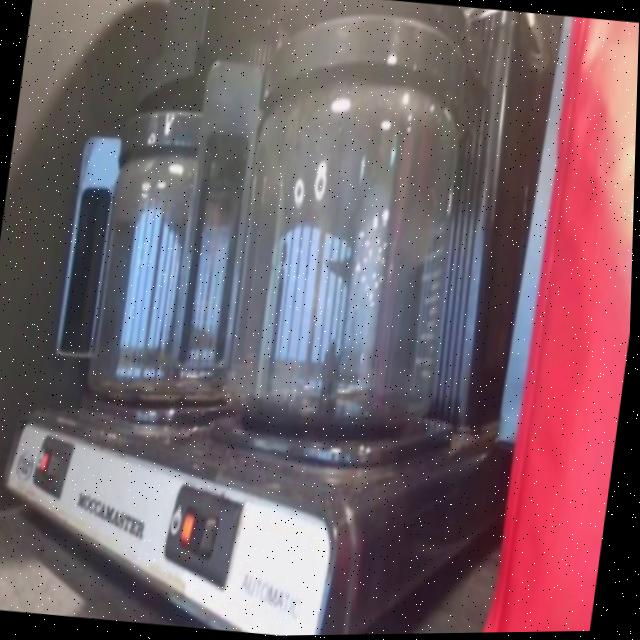nocoffee: (182, 0, 516, 470), (58, 60, 298, 437)
